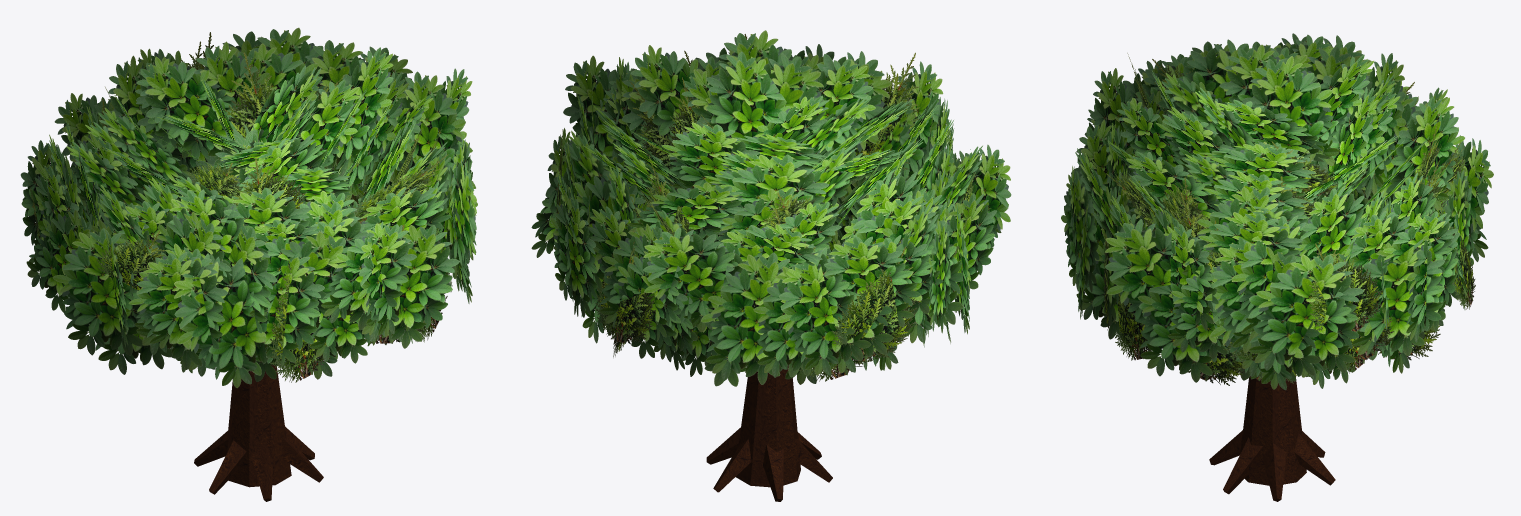
File: tree_broadleaf_02_real.glb
3 views of the same model, side by side, from view 1: azimuth 30°, elevation 25°; view 2: azimuth 150°, elevation 25°; view 3: azimuth 270°, elevation 25° (orthographic).
Visible parts, largest first — view 1: tree_broadleaf_02; view 2: tree_broadleaf_02; view 3: tree_broadleaf_02.
Boxes of the visible parts, x1,y1,x2,y2 form: tree_broadleaf_02: (20,27,477,501); tree_broadleaf_02: (531,30,1011,501); tree_broadleaf_02: (1061,33,1493,501).
Size of the model in its own units: 6.03 by 5.83 by 5.76.
Materials: 2 (2 with a texture image).
